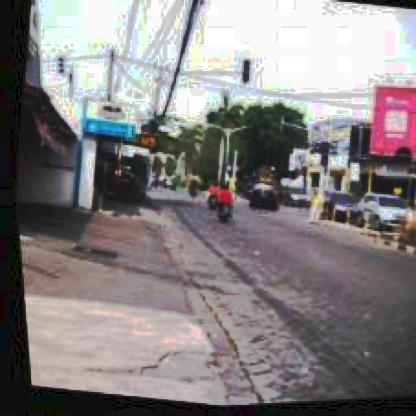Traffic Light -Yellow-: (237, 61, 254, 86), (315, 146, 330, 170)
